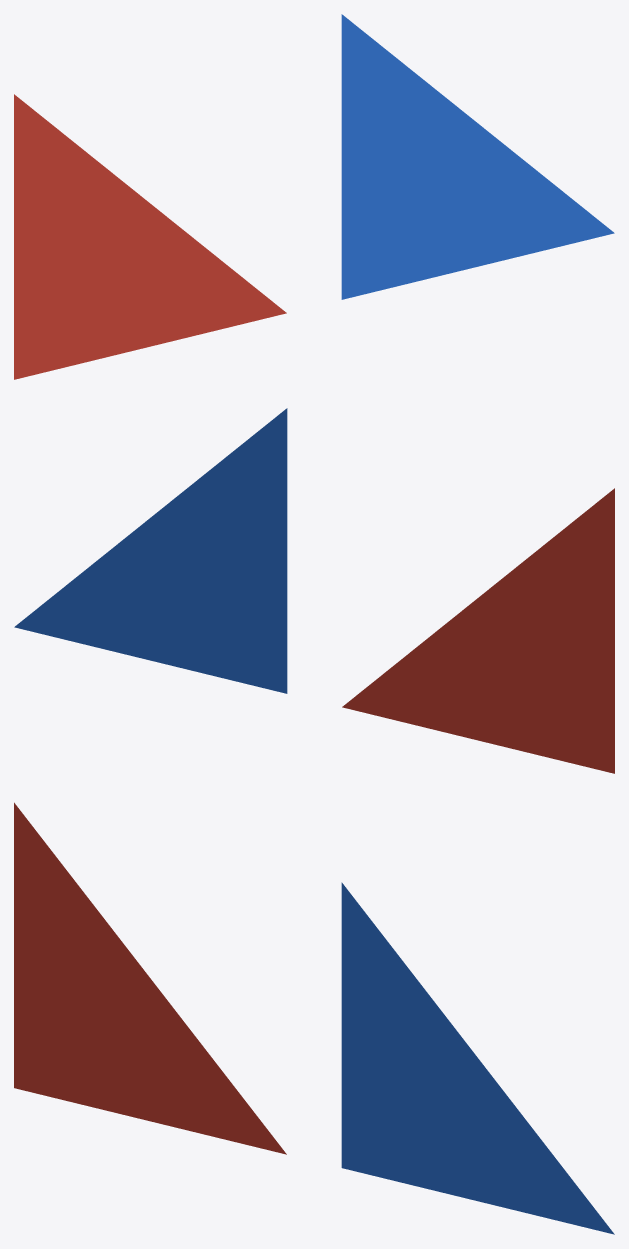
Rendered from two-material-triangles.gltf.
The picture shows the model from 3 angles, top to bottom: view 1: azimuth 30°, elevation 25°; view 2: azimuth 150°, elevation 25°; view 3: azimuth 330°, elevation 25°; orthographic projection.
Parts seen in each view (by area): view 1: Sponsor, Body; view 2: Sponsor, Body; view 3: Sponsor, Body.
Part boxes in pixels (x1,y1,x2,y2): Sponsor: (341, 14, 614, 299); Body: (14, 94, 286, 379); Sponsor: (14, 408, 287, 693); Body: (342, 488, 614, 773); Sponsor: (341, 882, 614, 1234); Body: (14, 802, 286, 1154).
Size of the model in its own units: 2.2 by 1 by 0.
